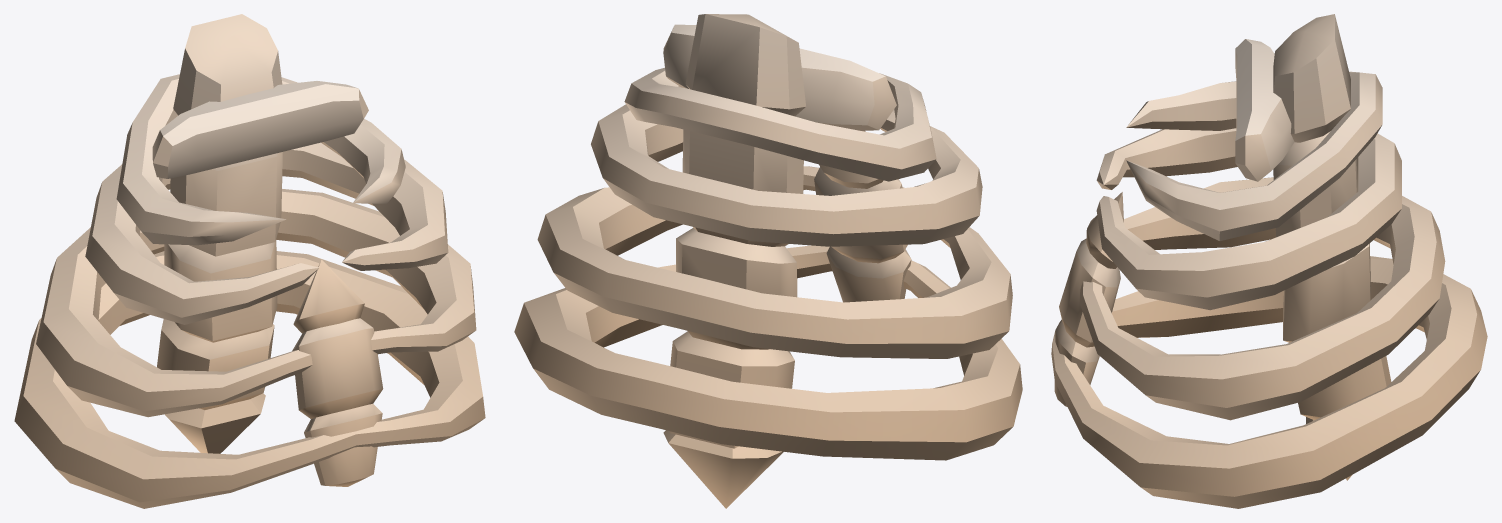
File: ribcage.obj
The picture shows the model from 3 angles, left to right: view 1: azimuth 30°, elevation 25°; view 2: azimuth 150°, elevation 25°; view 3: azimuth 270°, elevation 25°; orthographic projection. The views are drawn at different scales.
Visible parts, largest first — view 1: ribcage_Cube.546; view 2: ribcage_Cube.546; view 3: ribcage_Cube.546.
Part boxes in pixels (<box>): ribcage_Cube.546: <box>14,14,485,508</box>; ribcage_Cube.546: <box>514,14,1022,508</box>; ribcage_Cube.546: <box>1051,14,1487,508</box>.
Bounding box in the file's own units: 0.8456 × 0.8582 × 0.7468.
Materials: 1 (1 with a texture image).
